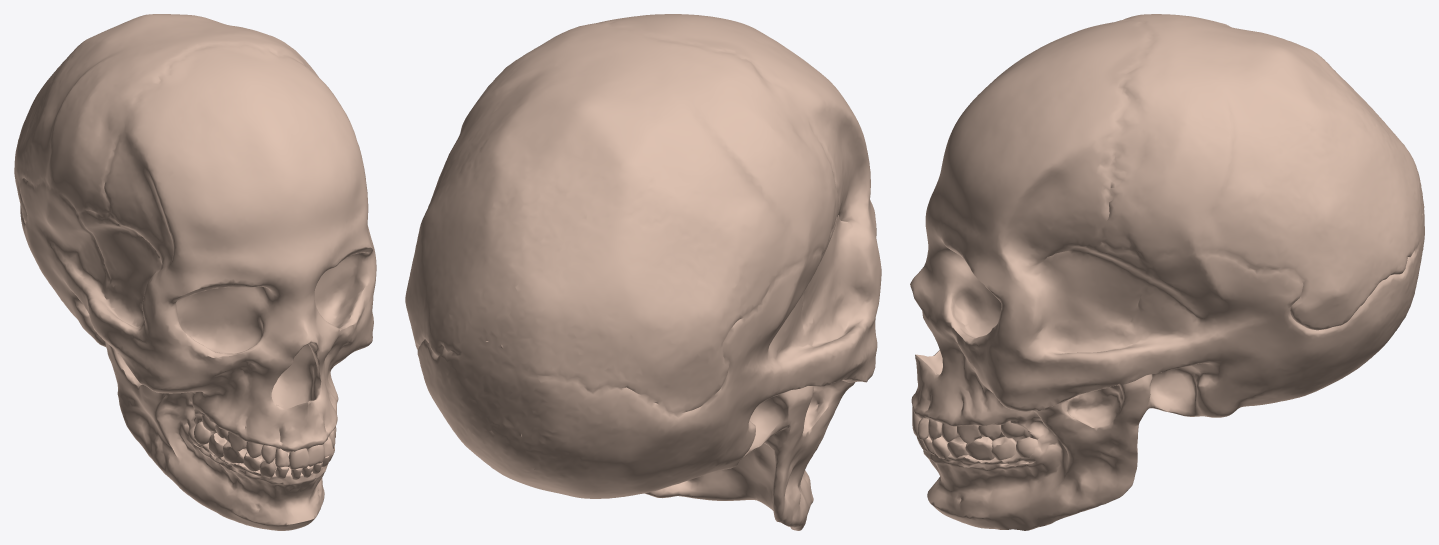
File: skull.glb
3 renders of one model, left to right at view 1: azimuth 30°, elevation 25°; view 2: azimuth 150°, elevation 25°; view 3: azimuth 270°, elevation 25°, orthographic. The views are drawn at different scales.
Parts seen in each view (by area): view 1: Object_3; view 2: Object_3; view 3: Object_3.
Part boxes in pixels (<box>): Object_3: <box>14,14,376,530</box>; Object_3: <box>405,14,881,530</box>; Object_3: <box>910,14,1424,530</box>.
Size of the model in its own units: 1.05 by 1.57 by 1.54.
